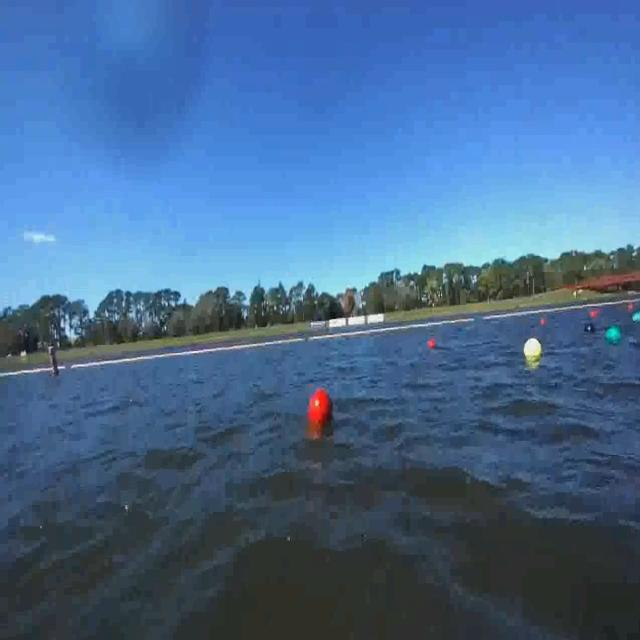black-buoy: (586, 323, 598, 334)
green-buoy: (605, 329, 621, 346), (632, 313, 640, 323)
red-buoy: (308, 388, 333, 424), (428, 339, 436, 350), (590, 310, 598, 318)
yellow-buoy: (526, 339, 545, 361)
